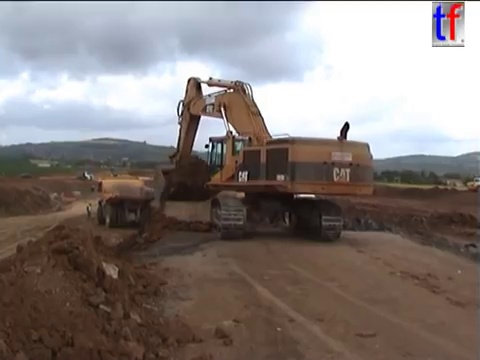excavator: (150, 74, 376, 244)
truck: (89, 174, 159, 229), (464, 176, 480, 193), (75, 170, 95, 182)
worker: (85, 200, 94, 222)
